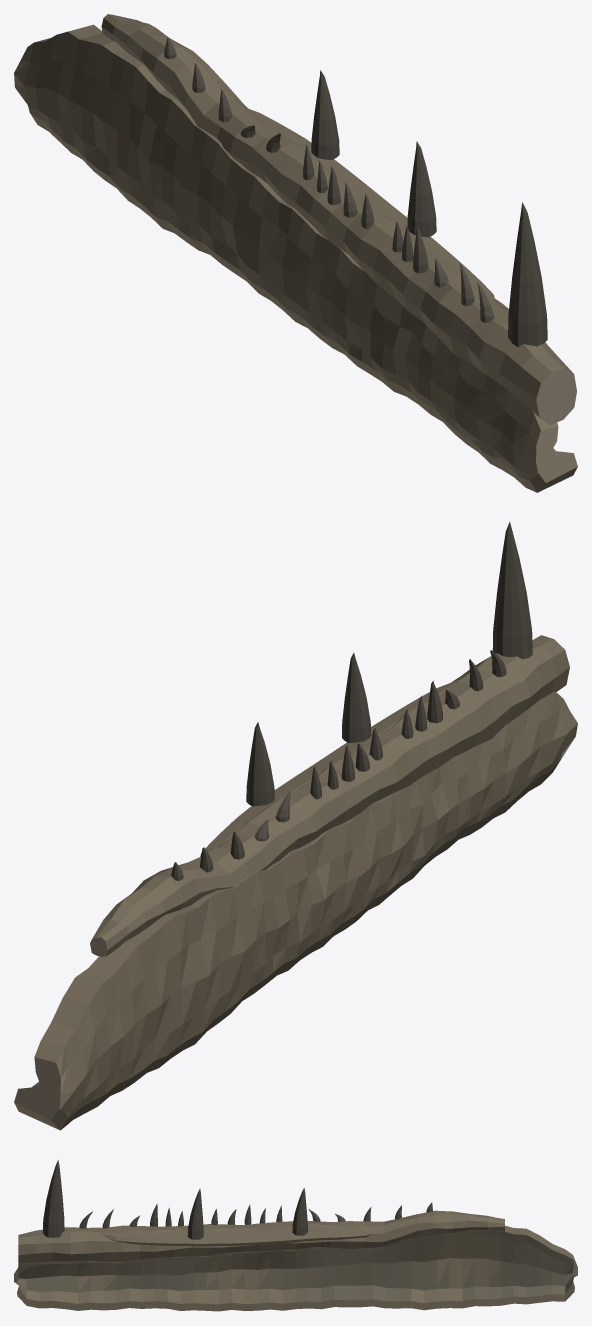
3 renders of one model, top to bottom at view 1: azimuth 30°, elevation 25°; view 2: azimuth 150°, elevation 25°; view 3: azimuth 270°, elevation 25°, orthographic. The views are drawn at different scales.
Visible parts, largest first — view 1: infradentary_wall_and_ventral_flange, dentary_tooth_bearing_bar, irregular_labial_marginal_teeth, anterior_mesial_tusk, preserved_lingual_coronoid_shelf, coronoid_fang_1, coronoid_fang_2; view 2: infradentary_wall_and_ventral_flange, dentary_tooth_bearing_bar, irregular_labial_marginal_teeth, anterior_mesial_tusk, preserved_lingual_coronoid_shelf, coronoid_fang_1, coronoid_fang_2; view 3: infradentary_wall_and_ventral_flange, dentary_tooth_bearing_bar, preserved_lingual_coronoid_shelf, irregular_labial_marginal_teeth, anterior_mesial_tusk, coronoid_fang_1, coronoid_fang_2.
Part boxes in pixels (<box>): infradentary_wall_and_ventral_flange: <box>14,24,577,492</box>; dentary_tooth_bearing_bar: <box>101,14,576,424</box>; irregular_labial_marginal_teeth: <box>164,37,494,322</box>; anterior_mesial_tusk: <box>508,202,547,346</box>; preserved_lingual_coronoid_shelf: <box>245,107,494,301</box>; coronoid_fang_1: <box>407,141,436,237</box>; coronoid_fang_2: <box>311,70,339,159</box>; infradentary_wall_and_ventral_flange: <box>14,691,577,1130</box>; dentary_tooth_bearing_bar: <box>90,635,569,956</box>; irregular_labial_marginal_teeth: <box>171,650,506,880</box>; anterior_mesial_tusk: <box>492,521,532,659</box>; preserved_lingual_coronoid_shelf: <box>200,680,458,856</box>; coronoid_fang_1: <box>342,652,371,742</box>; coronoid_fang_2: <box>246,722,274,806</box>; infradentary_wall_and_ventral_flange: <box>14,1225,577,1311</box>; dentary_tooth_bearing_bar: <box>18,1210,504,1265</box>; preserved_lingual_coronoid_shelf: <box>101,1226,375,1246</box>; irregular_labial_marginal_teeth: <box>79,1202,432,1228</box>; anterior_mesial_tusk: <box>43,1160,64,1237</box>; coronoid_fang_1: <box>187,1188,203,1239</box>; coronoid_fang_2: <box>292,1188,307,1235</box>.
Bounding box in the file's own units: 0.0237 × 0.0783 × 0.27.
